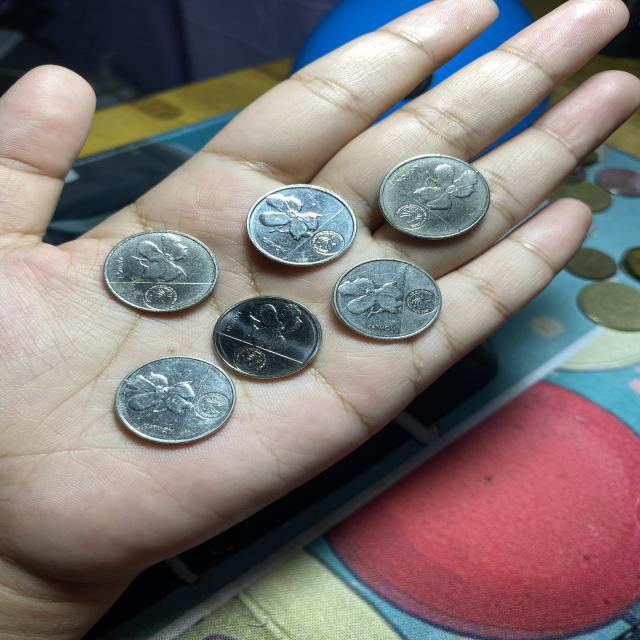25Cent_New_Back: (125, 231, 196, 279), (128, 368, 188, 422), (417, 156, 476, 208), (339, 273, 400, 321), (254, 191, 313, 239)
